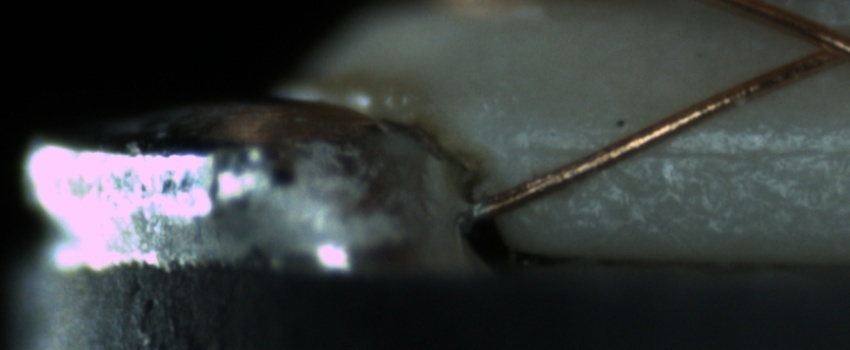CL: (792, 17, 850, 75)
DL: (523, 119, 848, 179)
